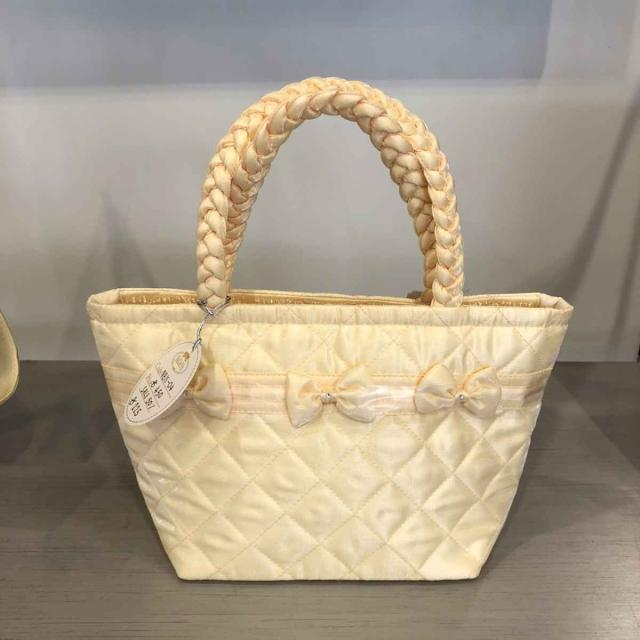Handbag: (85, 259, 588, 593)
